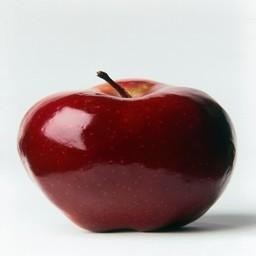apple: (18, 80, 235, 232)
